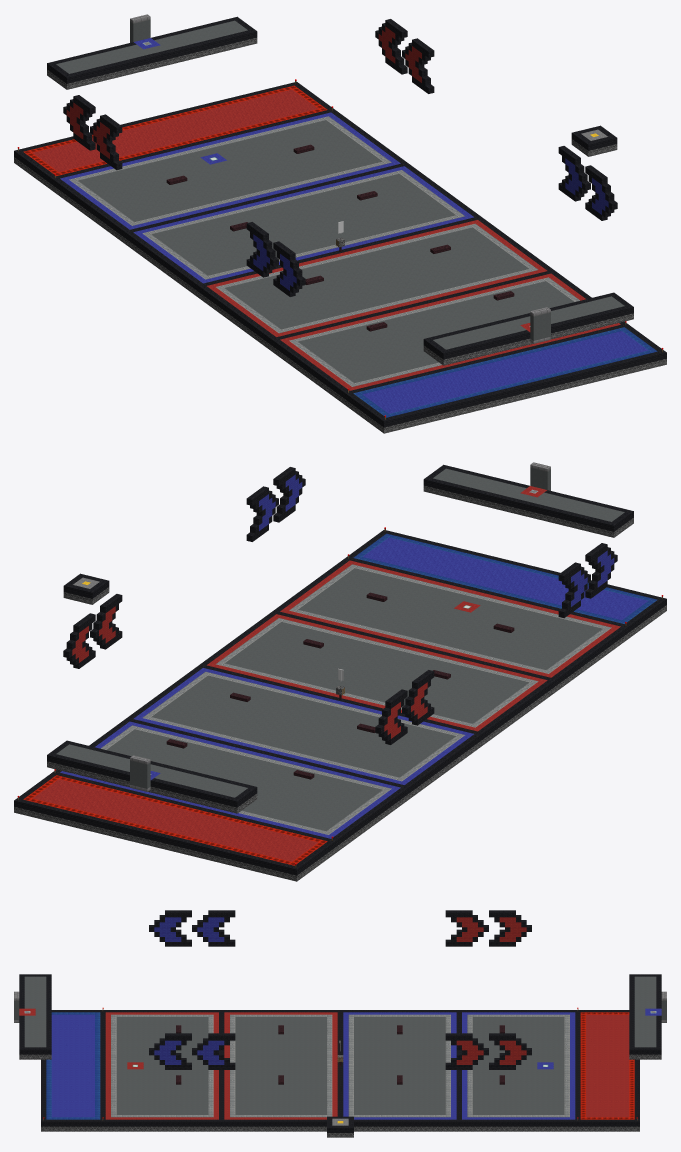
Rendered from minecraft.obj.
3 renders of one model, top to bottom at view 1: azimuth 30°, elevation 25°; view 2: azimuth 150°, elevation 25°; view 3: azimuth 270°, elevation 25°, orthographic. The views are drawn at different scales.
Size of the model in its own units: 74 by 21 by 121.
